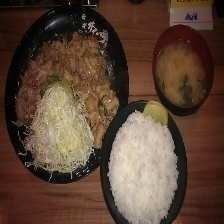rice: (108, 110, 178, 222)
